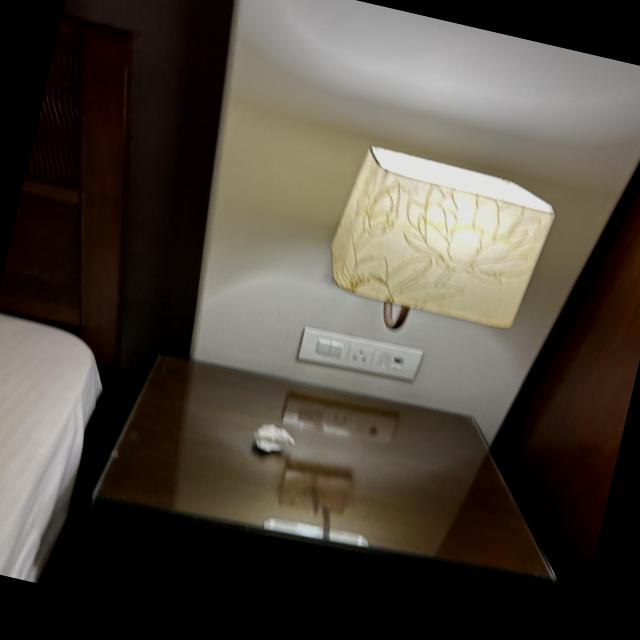mess: (89, 335, 530, 640)
